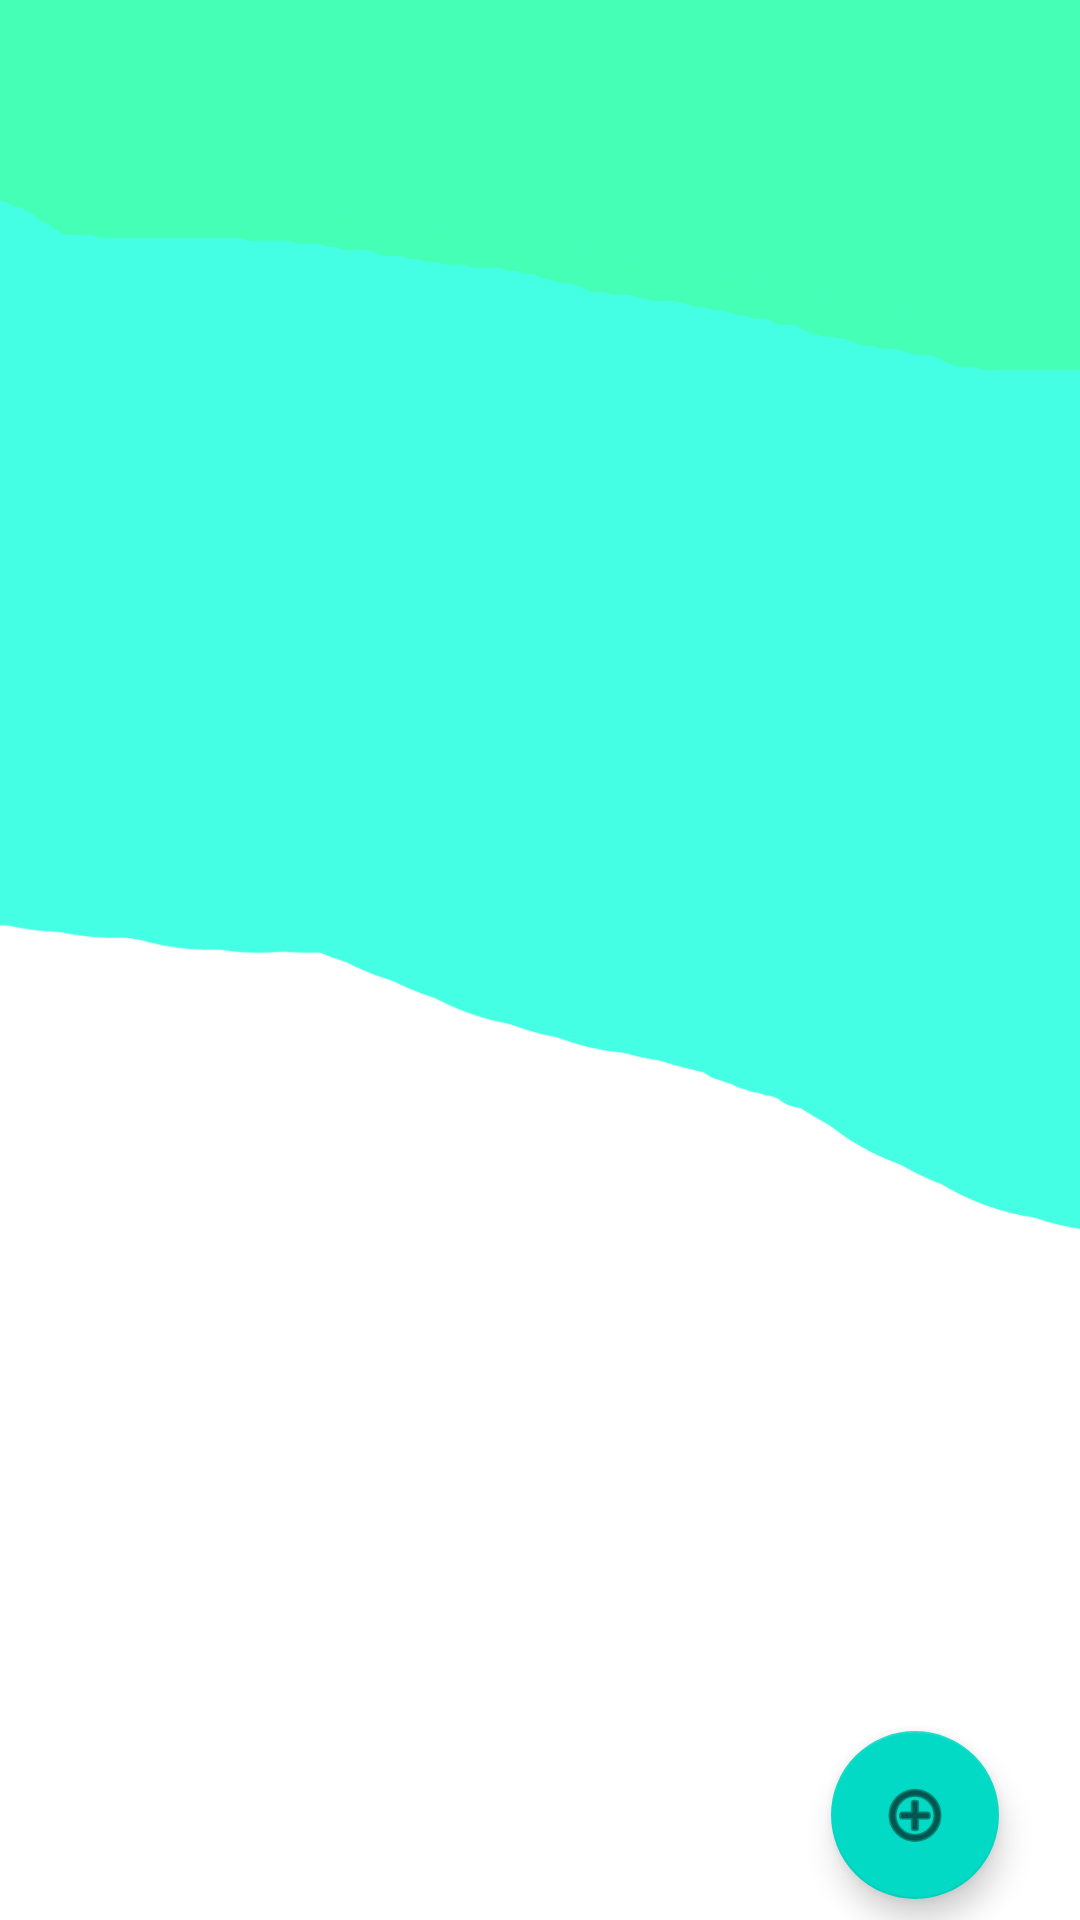

Locate icon controls on the screen. Image size 1080w x 1920h, boxes as (x1, y1, x2, y2).
add: (831, 1731, 999, 1899)
